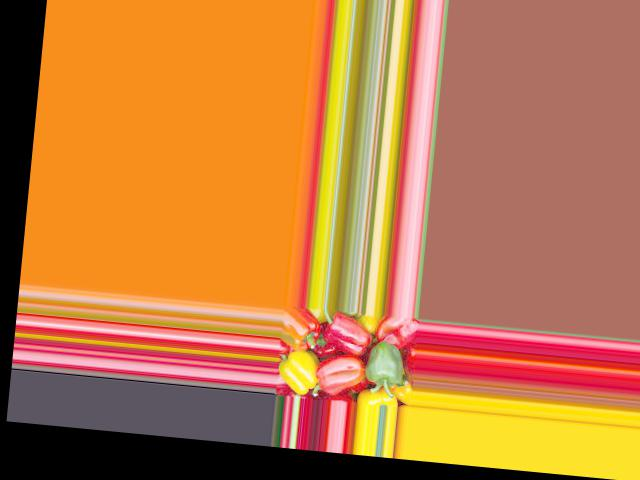bell_pepper: (276, 345, 322, 398)
